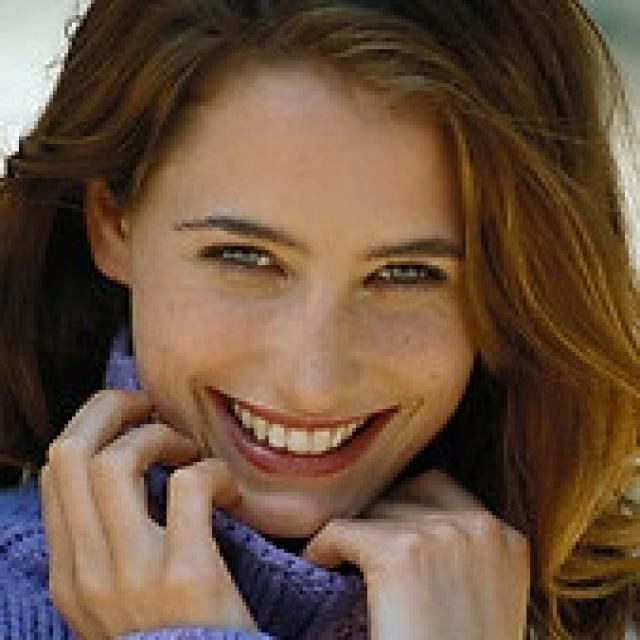Normal: (132, 54, 477, 540)
